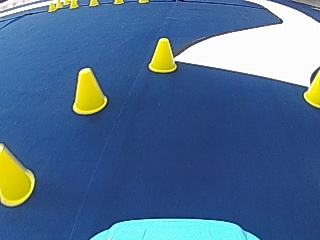cone: (0, 144, 35, 206), (71, 66, 107, 114), (149, 37, 177, 72), (304, 67, 320, 106)
